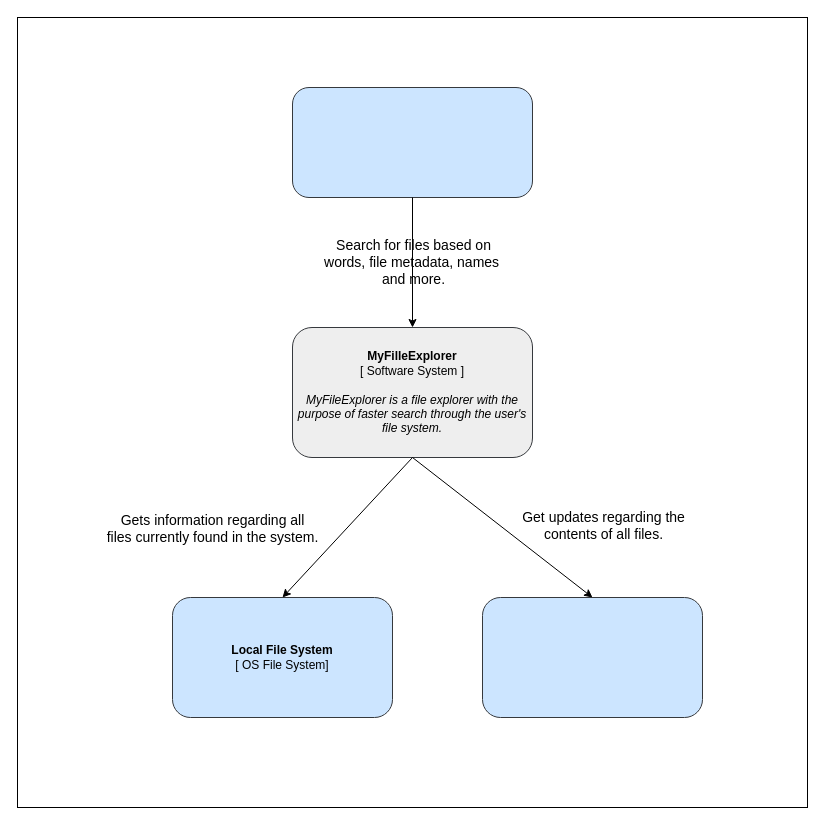
This 825x825 diagram has some shape labels left out. Here are the shapes that lost their labels. From the top down, the centre of each, then its label:
At [412,142]: "Desktop User [ Person ] The user of the computer the application is running on.".
At [592,657]: "USN Journal [Windows File Changes Journal]".
